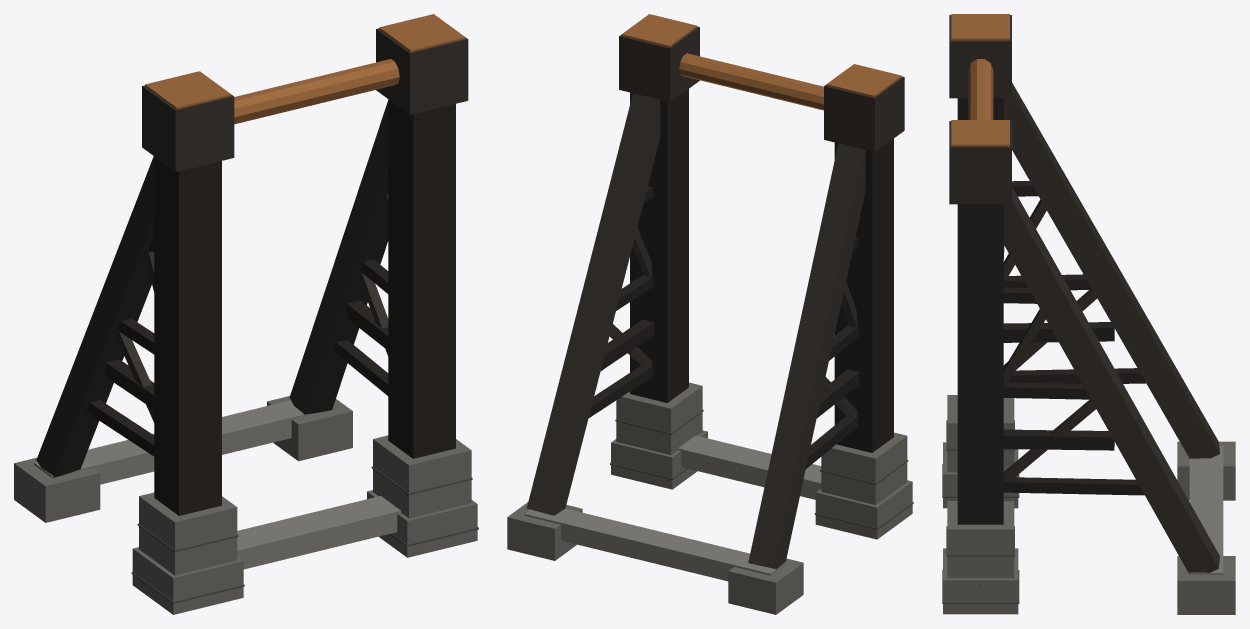
The model's file is trebuchet.glb.
3 renders of one model, left to right at view 1: azimuth 30°, elevation 25°; view 2: azimuth 150°, elevation 25°; view 3: azimuth 270°, elevation 25°, orthographic. The views are drawn at different scales.
Visible parts, largest first — view 1: trebuchet.001; view 2: trebuchet.001; view 3: trebuchet.001.
Boxes of the visible parts, x1=… form: trebuchet.001: x1=14, y1=14, x2=478, y2=614; trebuchet.001: x1=507, y1=14, x2=913, y2=614; trebuchet.001: x1=942, y1=14, x2=1235, y2=614.
Size of the model in its own units: 7.88 by 12.3 by 7.02.
